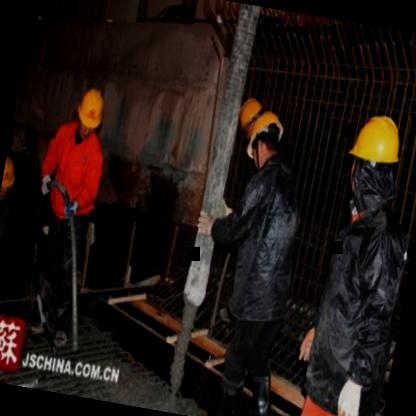helmet: (338, 104, 408, 210), (241, 105, 288, 171), (71, 82, 109, 141), (232, 96, 266, 141), (0, 155, 22, 207)
